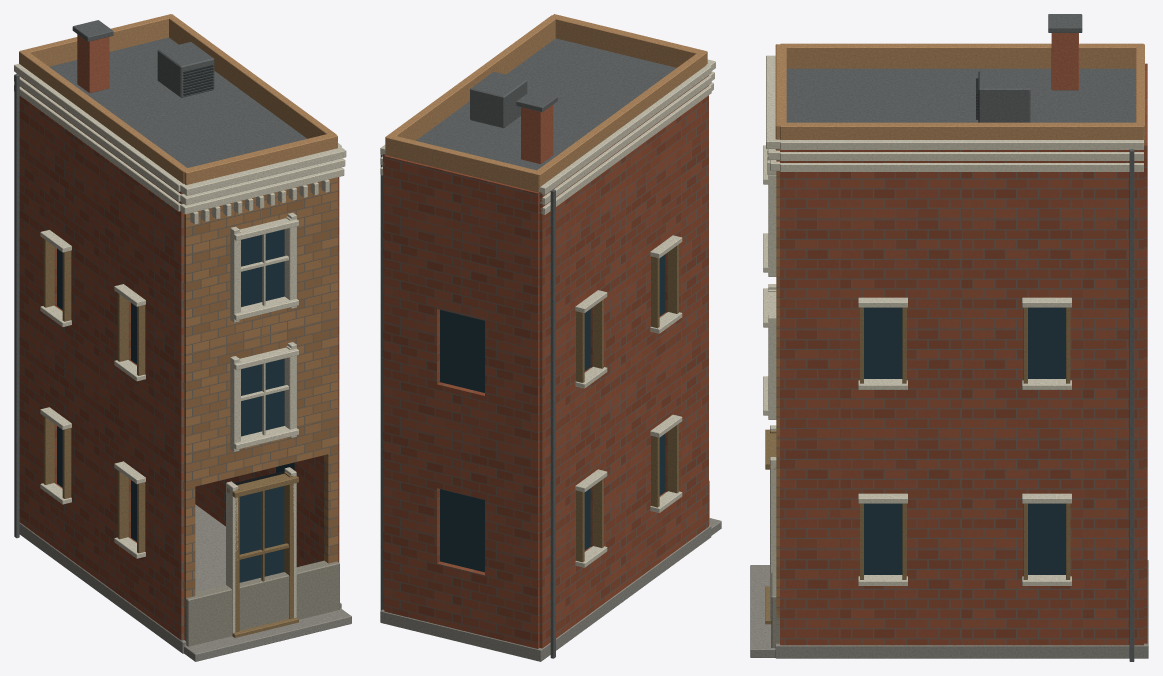
The model's file is RUNDWN17_lod1.glb.
3 renders of one model, left to right at view 1: azimuth 30°, elevation 25°; view 2: azimuth 150°, elevation 25°; view 3: azimuth 270°, elevation 25°, orthographic. The views are drawn at different scales.
Visible parts, largest first — view 1: RUNDWN17_LOD1; view 2: RUNDWN17_LOD1; view 3: RUNDWN17_LOD1.
Part boxes in pixels (x1,y1,x2,y2): RUNDWN17_LOD1: (14,14,351,661); RUNDWN17_LOD1: (380,14,721,661); RUNDWN17_LOD1: (750,14,1148,661).
Bounding box in the file's own units: 3.71 × 10.45 × 6.57.
12 materials, 10 textured.
